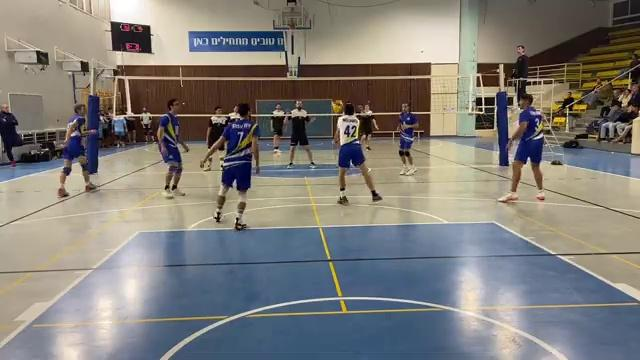ball: (328, 99, 348, 117)
